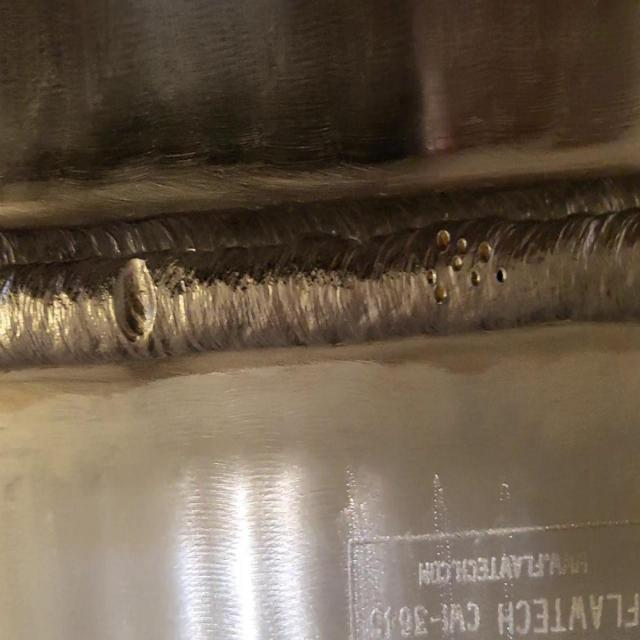Welding Line: (0, 205, 639, 358)
porosity: (424, 227, 508, 302), (111, 257, 157, 339)
